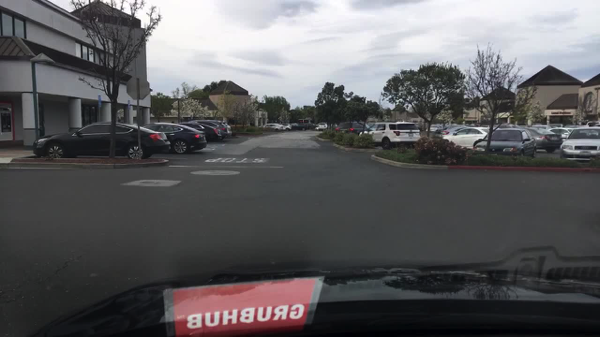car: (32, 120, 171, 159), (138, 122, 208, 155), (472, 127, 537, 158), (359, 119, 421, 149), (438, 126, 499, 150), (559, 126, 598, 161), (513, 125, 561, 153), (176, 121, 224, 142), (188, 119, 234, 138), (544, 126, 580, 141), (334, 120, 370, 134), (437, 125, 470, 139), (259, 122, 284, 132), (426, 123, 443, 134), (313, 122, 328, 131), (292, 124, 308, 131), (585, 120, 599, 127), (280, 123, 292, 131), (303, 123, 315, 130)
